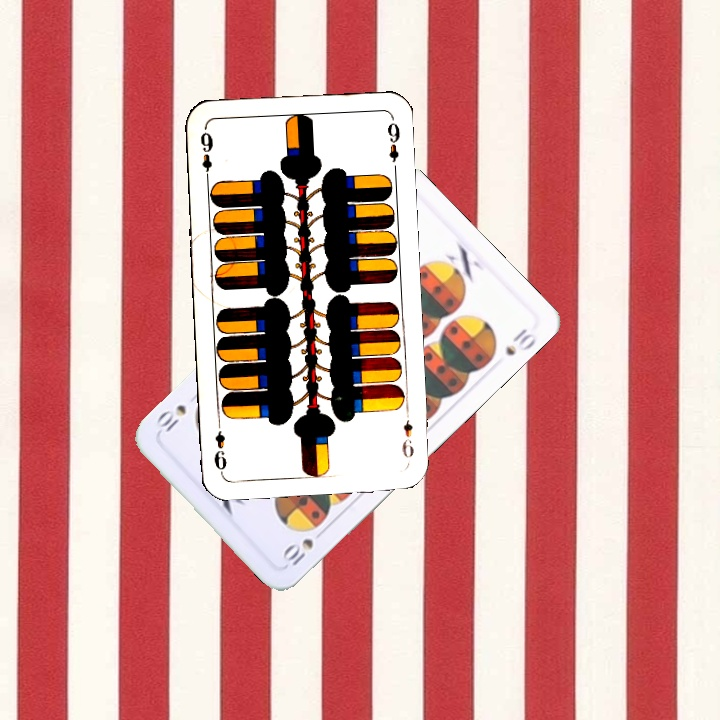E9: (196, 128, 216, 184), (398, 416, 416, 461)
S10: (277, 520, 329, 569)
